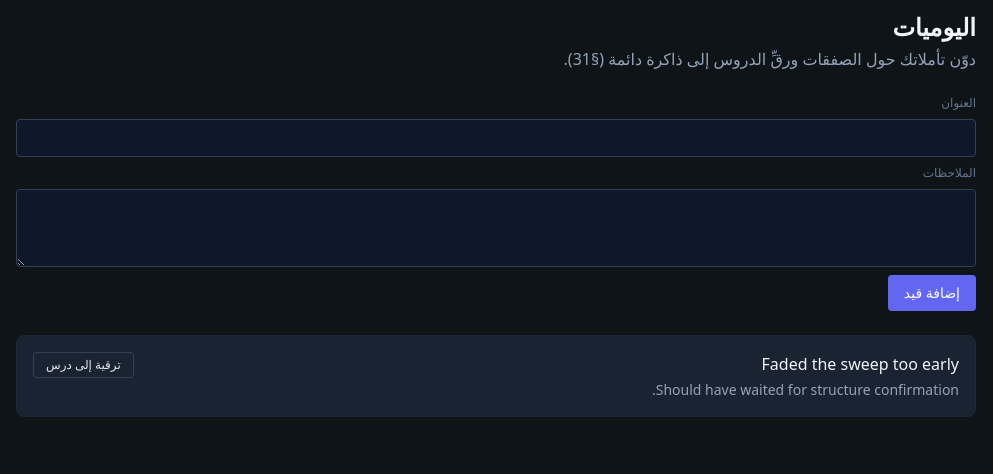
Test case: JournalPage › lists journal entries and promotes one to a lesson
Expected: the text "Faded the sweep too early" is shown, top-left (762, 353), bottom-right (959, 375)
Click the button with test id "journal-promote-entry-1".
click(83, 365)  # box top-left (33, 352), bottom-right (134, 378)
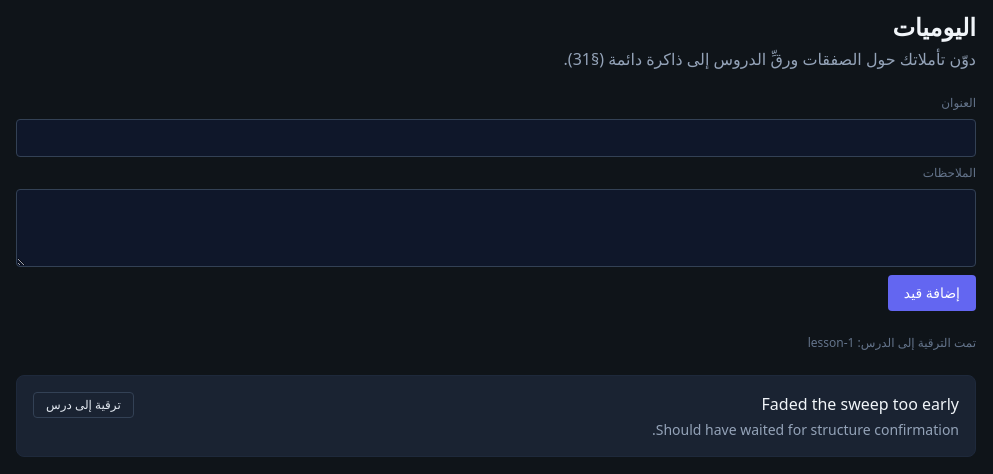
Expected: the text with test id "promoted-lesson" shows "lesson-1", top-left (808, 334), bottom-right (854, 351)
